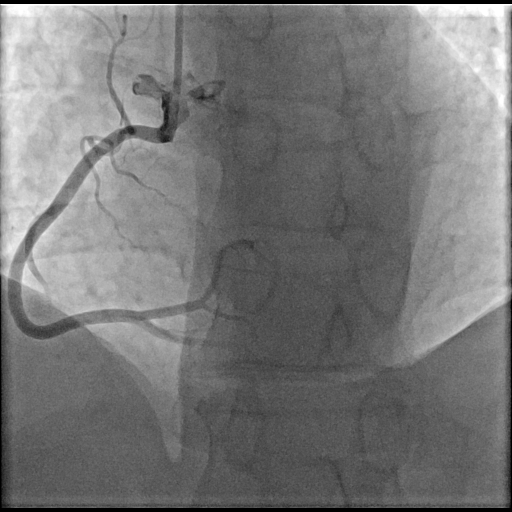RCA: (8, 74, 224, 342)
catherter: (173, 4, 188, 94)
